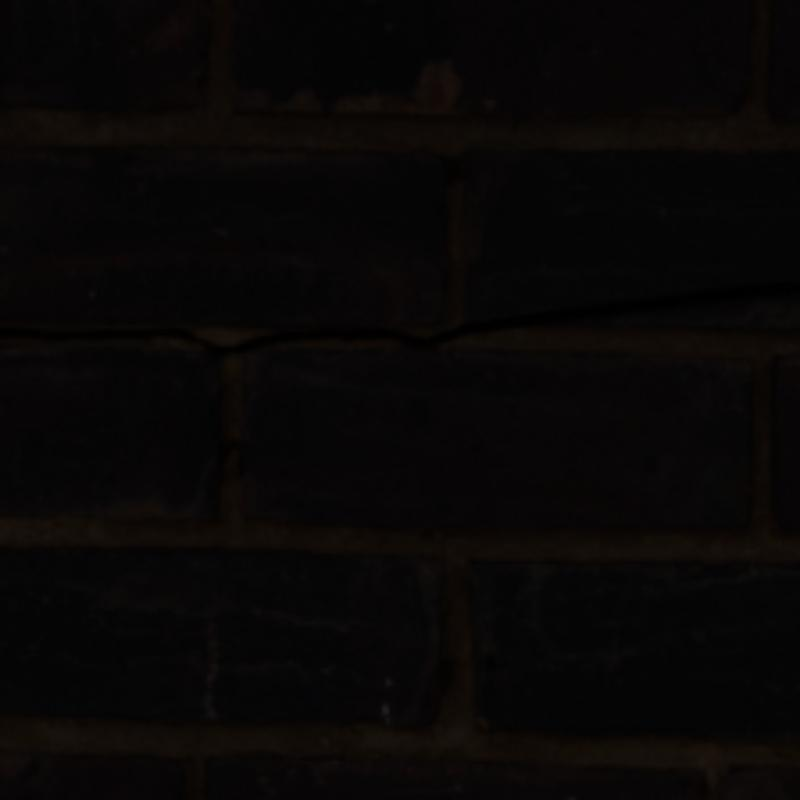pothole: (0, 282, 796, 357)
